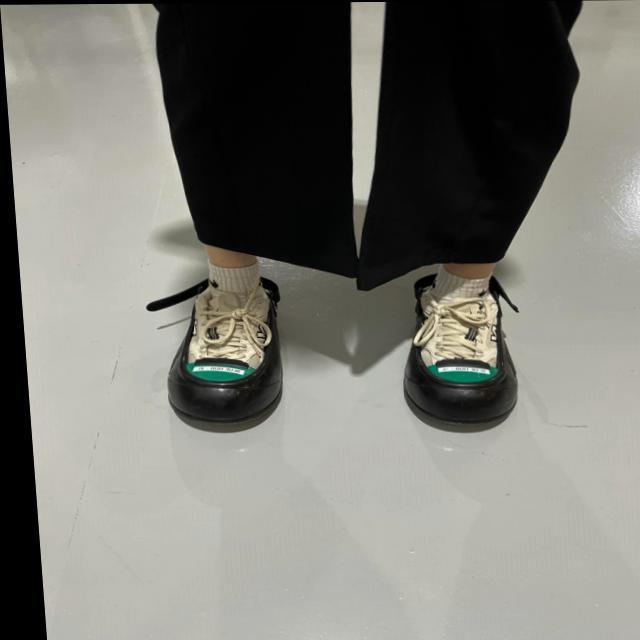shoes: (147, 268, 286, 430), (402, 274, 521, 434)
